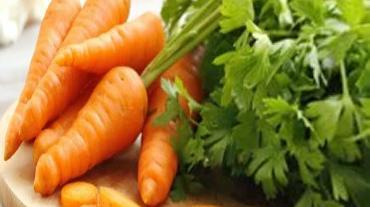carrot: (0, 0, 166, 163), (66, 21, 194, 207)
